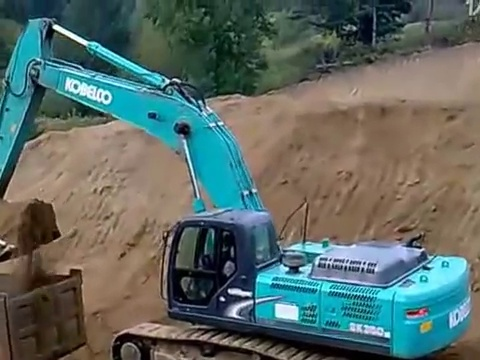excavator: (1, 16, 472, 360)
truck: (3, 269, 89, 360)
